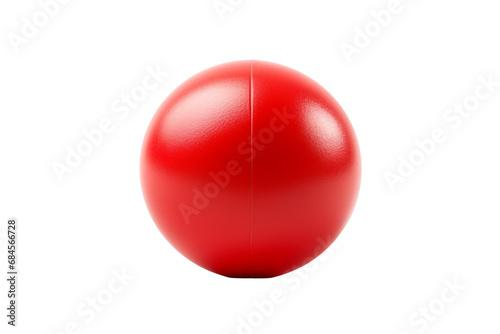Red_Ball: (127, 56, 373, 281)
